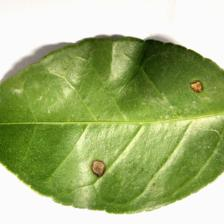canker: (58, 72, 215, 184)
